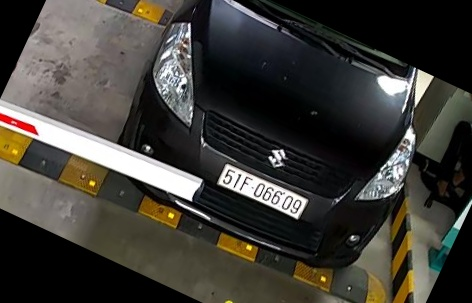plate: (214, 158, 307, 222)
